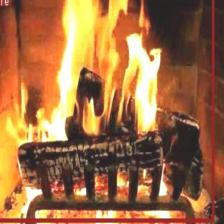fire: (0, 0, 214, 222)
